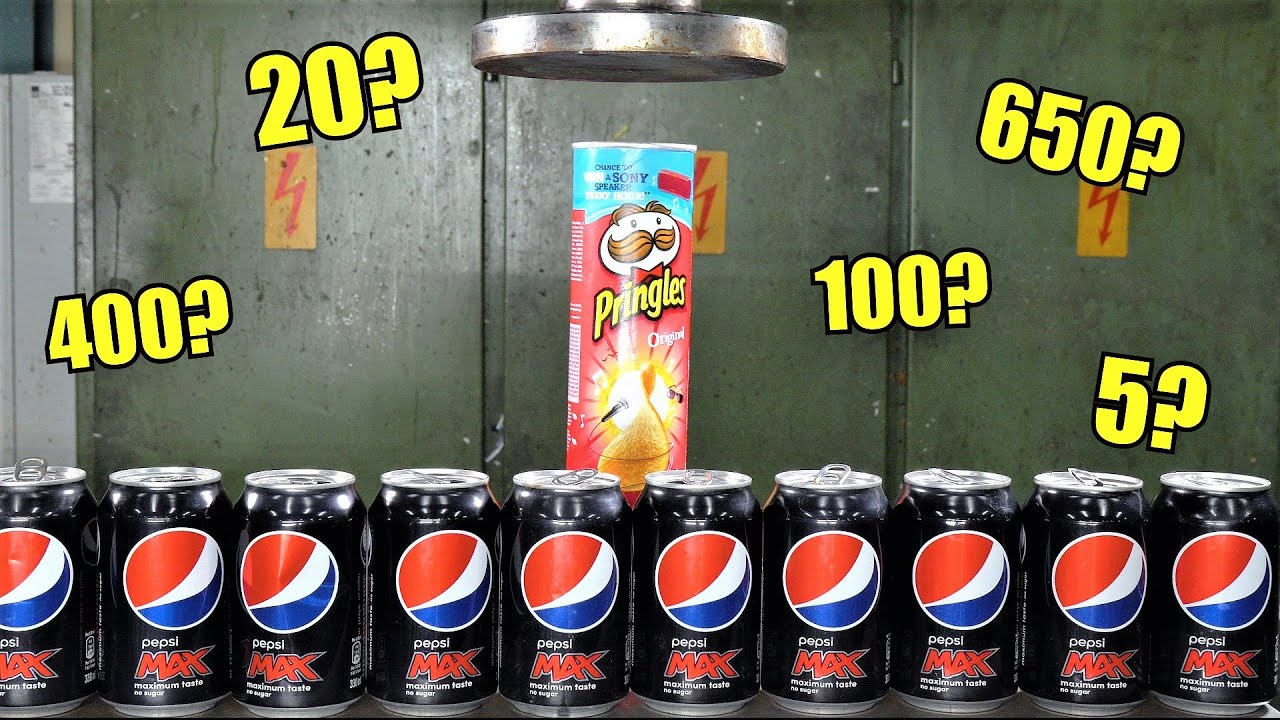can: (98, 466, 236, 720), (755, 463, 892, 716), (363, 467, 499, 720), (498, 466, 632, 720), (231, 468, 366, 720), (1020, 467, 1150, 719), (1150, 469, 1280, 720), (890, 467, 1018, 713), (635, 467, 759, 717), (1, 456, 100, 720)
